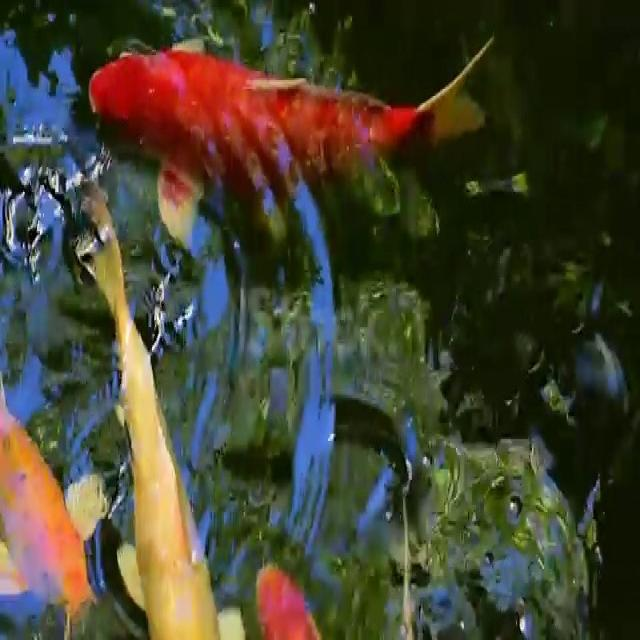fish: (84, 15, 484, 256), (85, 182, 242, 640), (0, 397, 102, 628), (253, 548, 320, 640)
